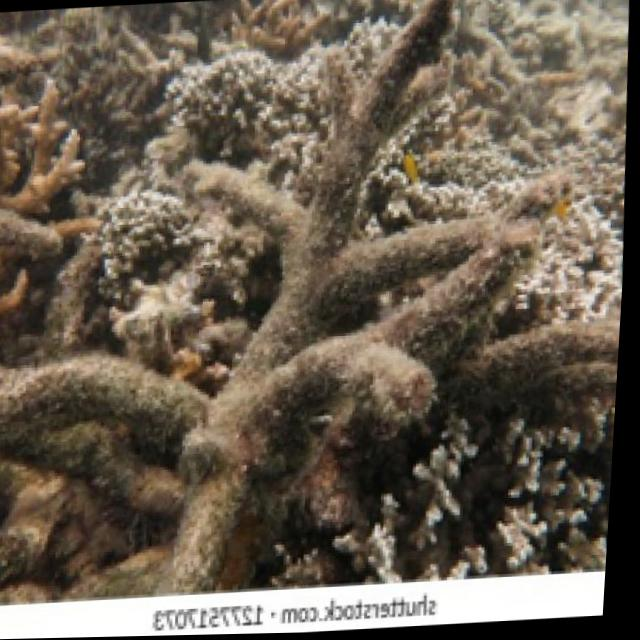Dead Coral: (0, 17, 598, 580)
